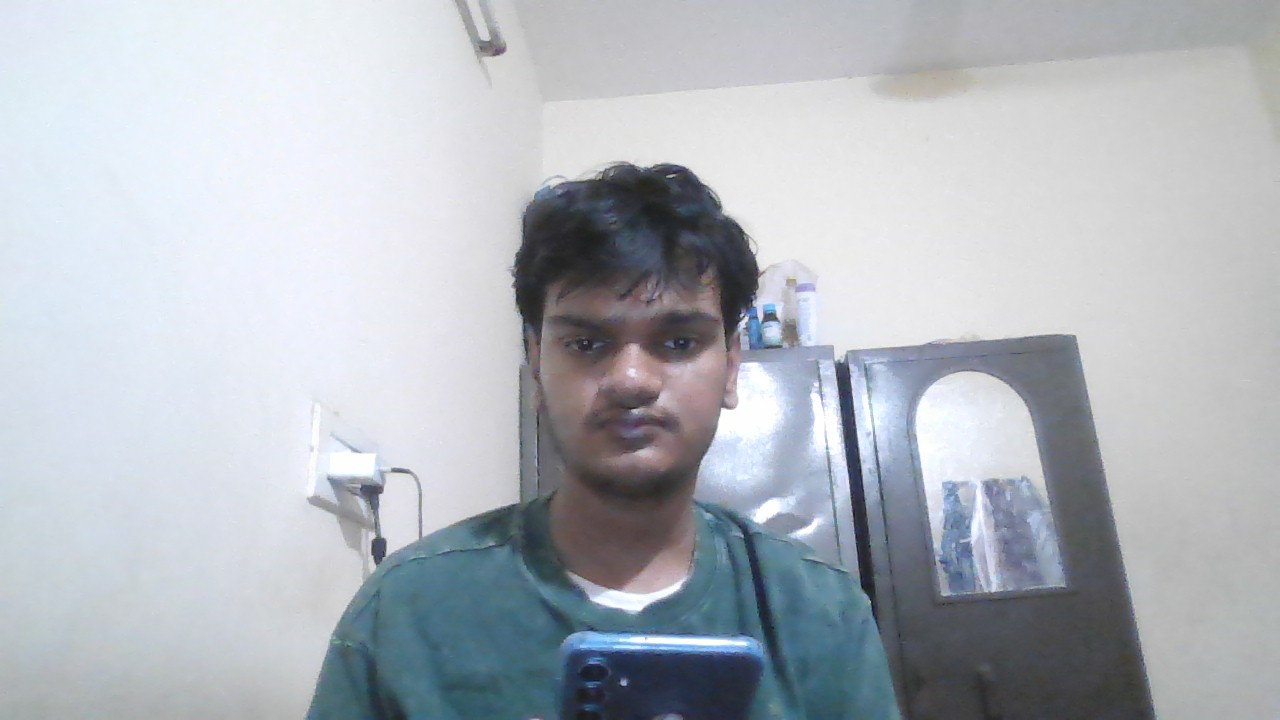phone: (556, 634, 766, 720)
